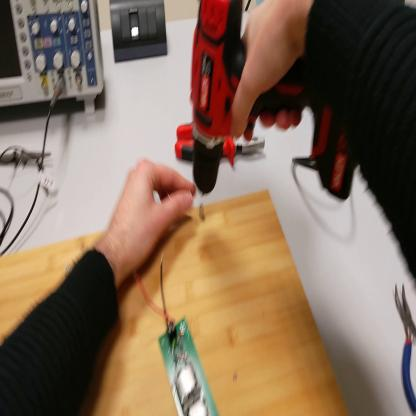electric screwdriver: (191, 1, 361, 197)
hand: (232, 1, 313, 139), (109, 160, 197, 273)
high voltage board: (132, 256, 220, 412)
oscilloscope: (2, 2, 105, 123)
oscilloscope probe tip: (2, 148, 52, 166)
pliers: (174, 124, 266, 168), (393, 280, 416, 411)
working area: (1, 193, 347, 416)
